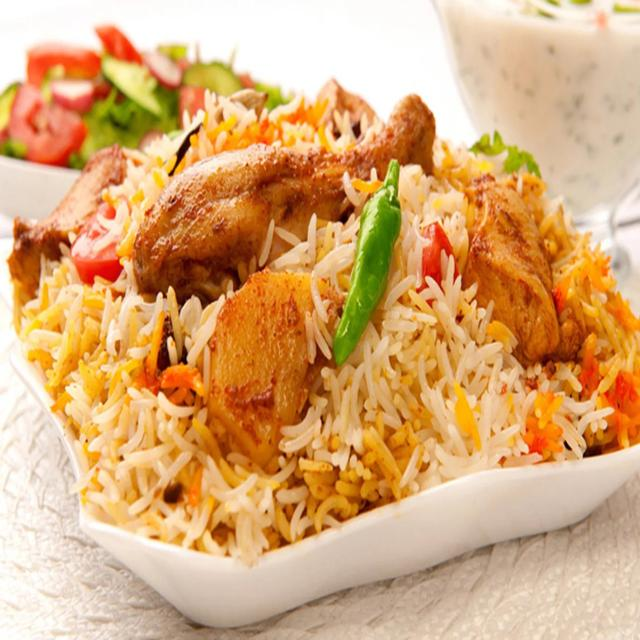chicken biryani: (37, 173, 602, 503)
